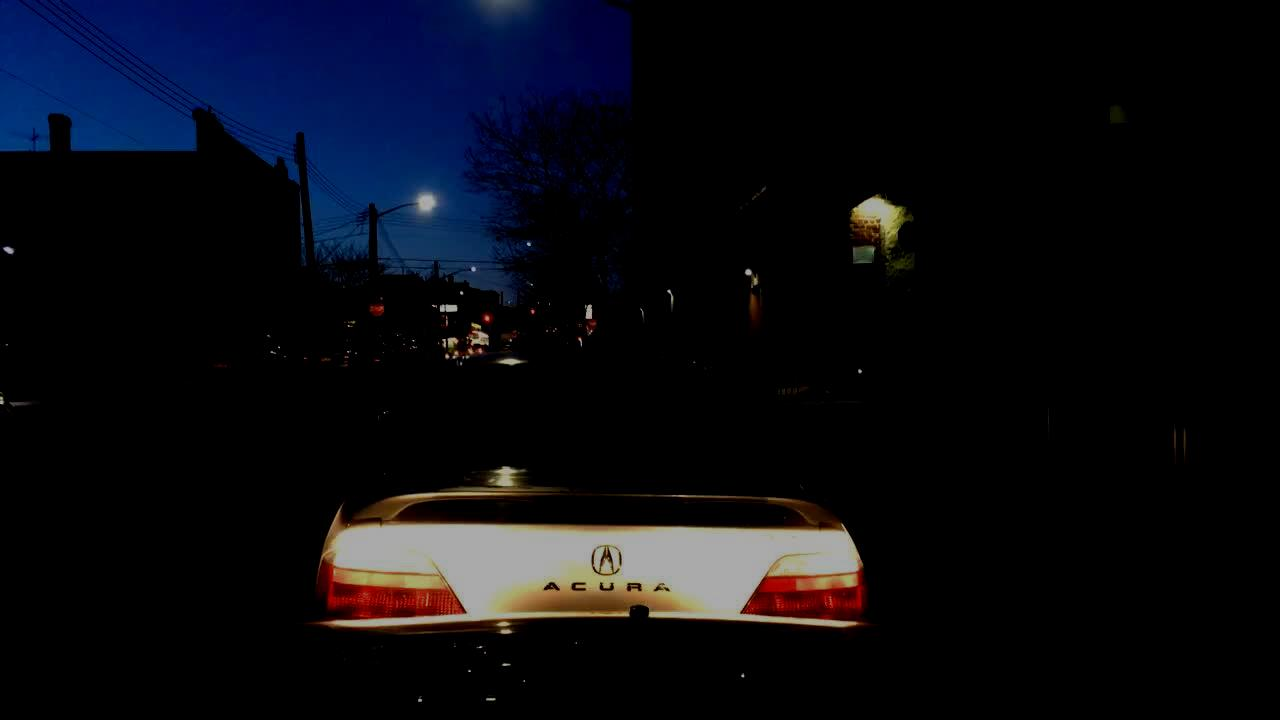acura: (582, 537, 633, 577)
